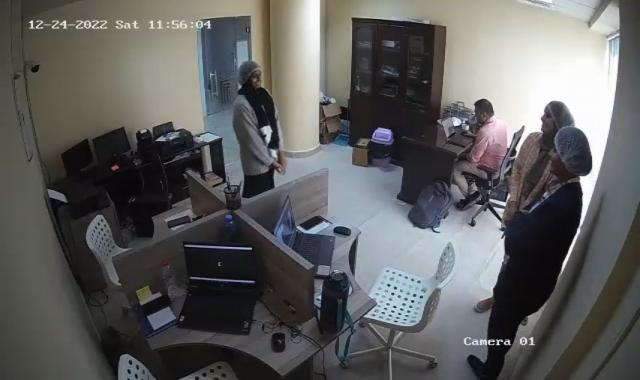hairnet: (548, 129, 594, 181), (543, 100, 574, 136), (236, 60, 263, 92)
no_hairnet: (472, 97, 495, 128)
